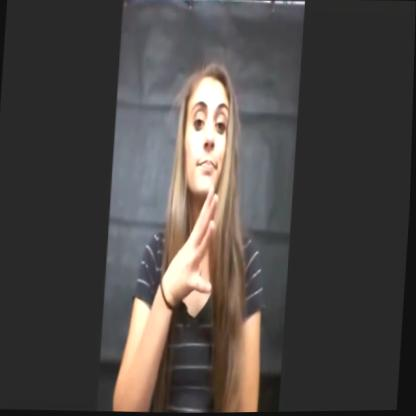Talk: (148, 179, 237, 327)
